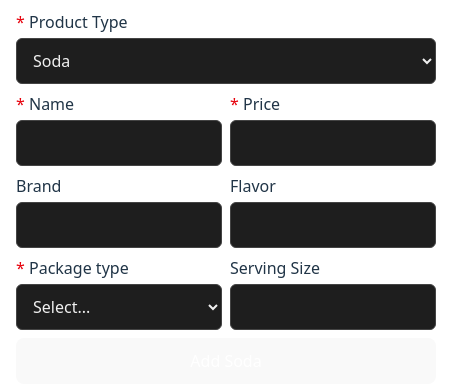
Test: Products Component › should change form fields when product type changes to Shampoo
Select "Shampoo" in the dropdown named "productType" below "Product Type". click: (226, 61)
box: [16, 38, 436, 84]
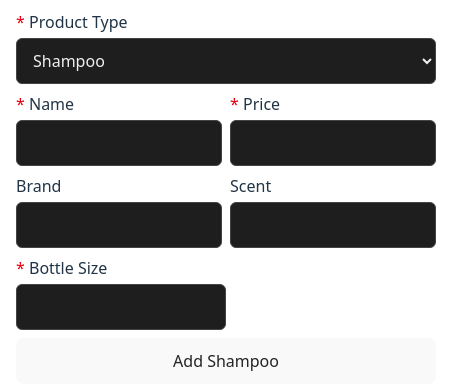
Expected: the field named "brand" below "Brand" is shown, [16, 202, 222, 248]
Result: the field named "bottleSize" below "Bottle Size" is shown at [16, 284, 226, 330]
